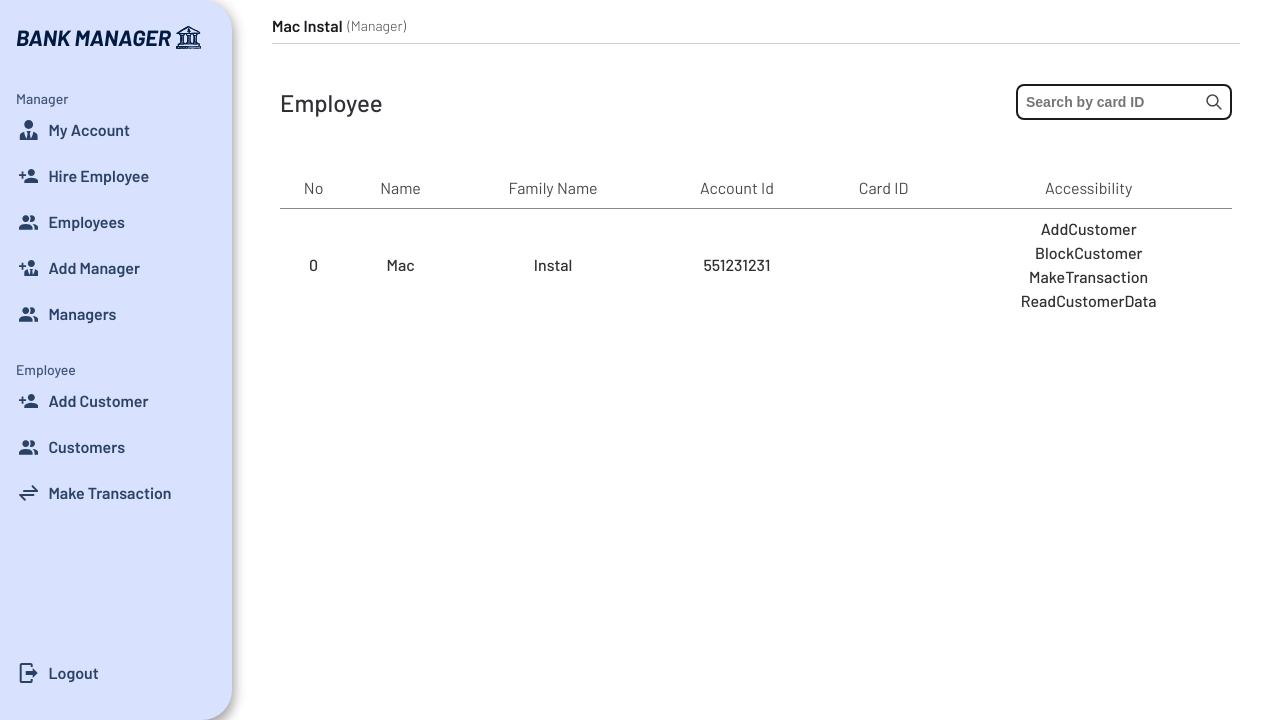
Scenario: user List Search Input test › click on the on item in list
Click the row with test id "table-row": (756, 265) [280,208,1232,321]
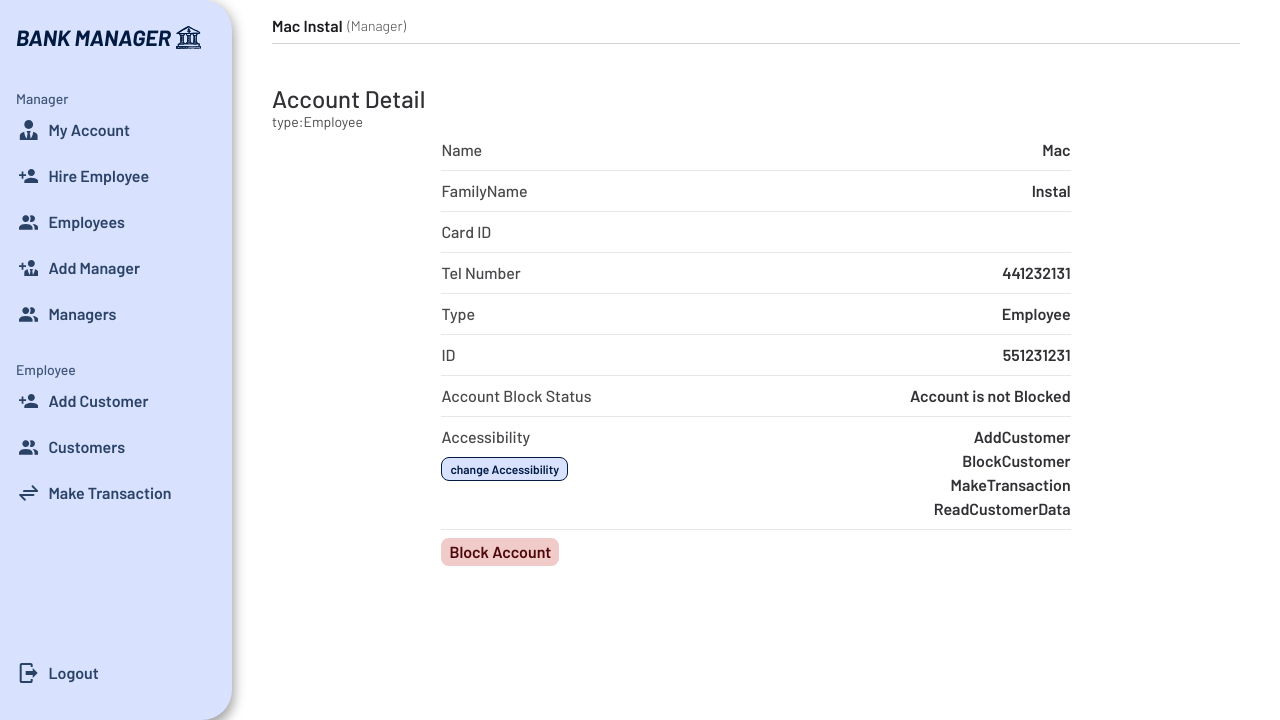
Now the element with test id "employeesID-route" is shown, box [272,84,1070,566]
